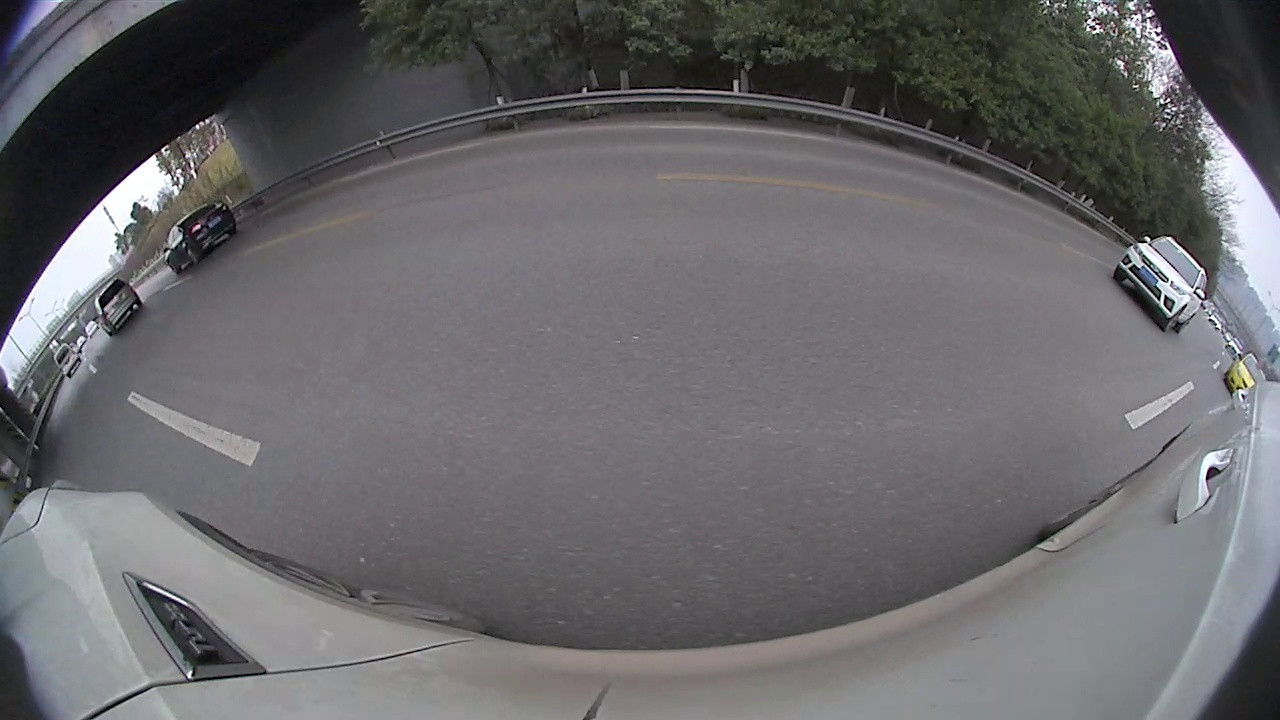car: (1112, 233, 1208, 335), (163, 201, 239, 275), (94, 276, 142, 339), (1223, 352, 1272, 396), (47, 343, 84, 379)
front: (1163, 306, 1186, 334)
rear: (186, 248, 198, 266)
